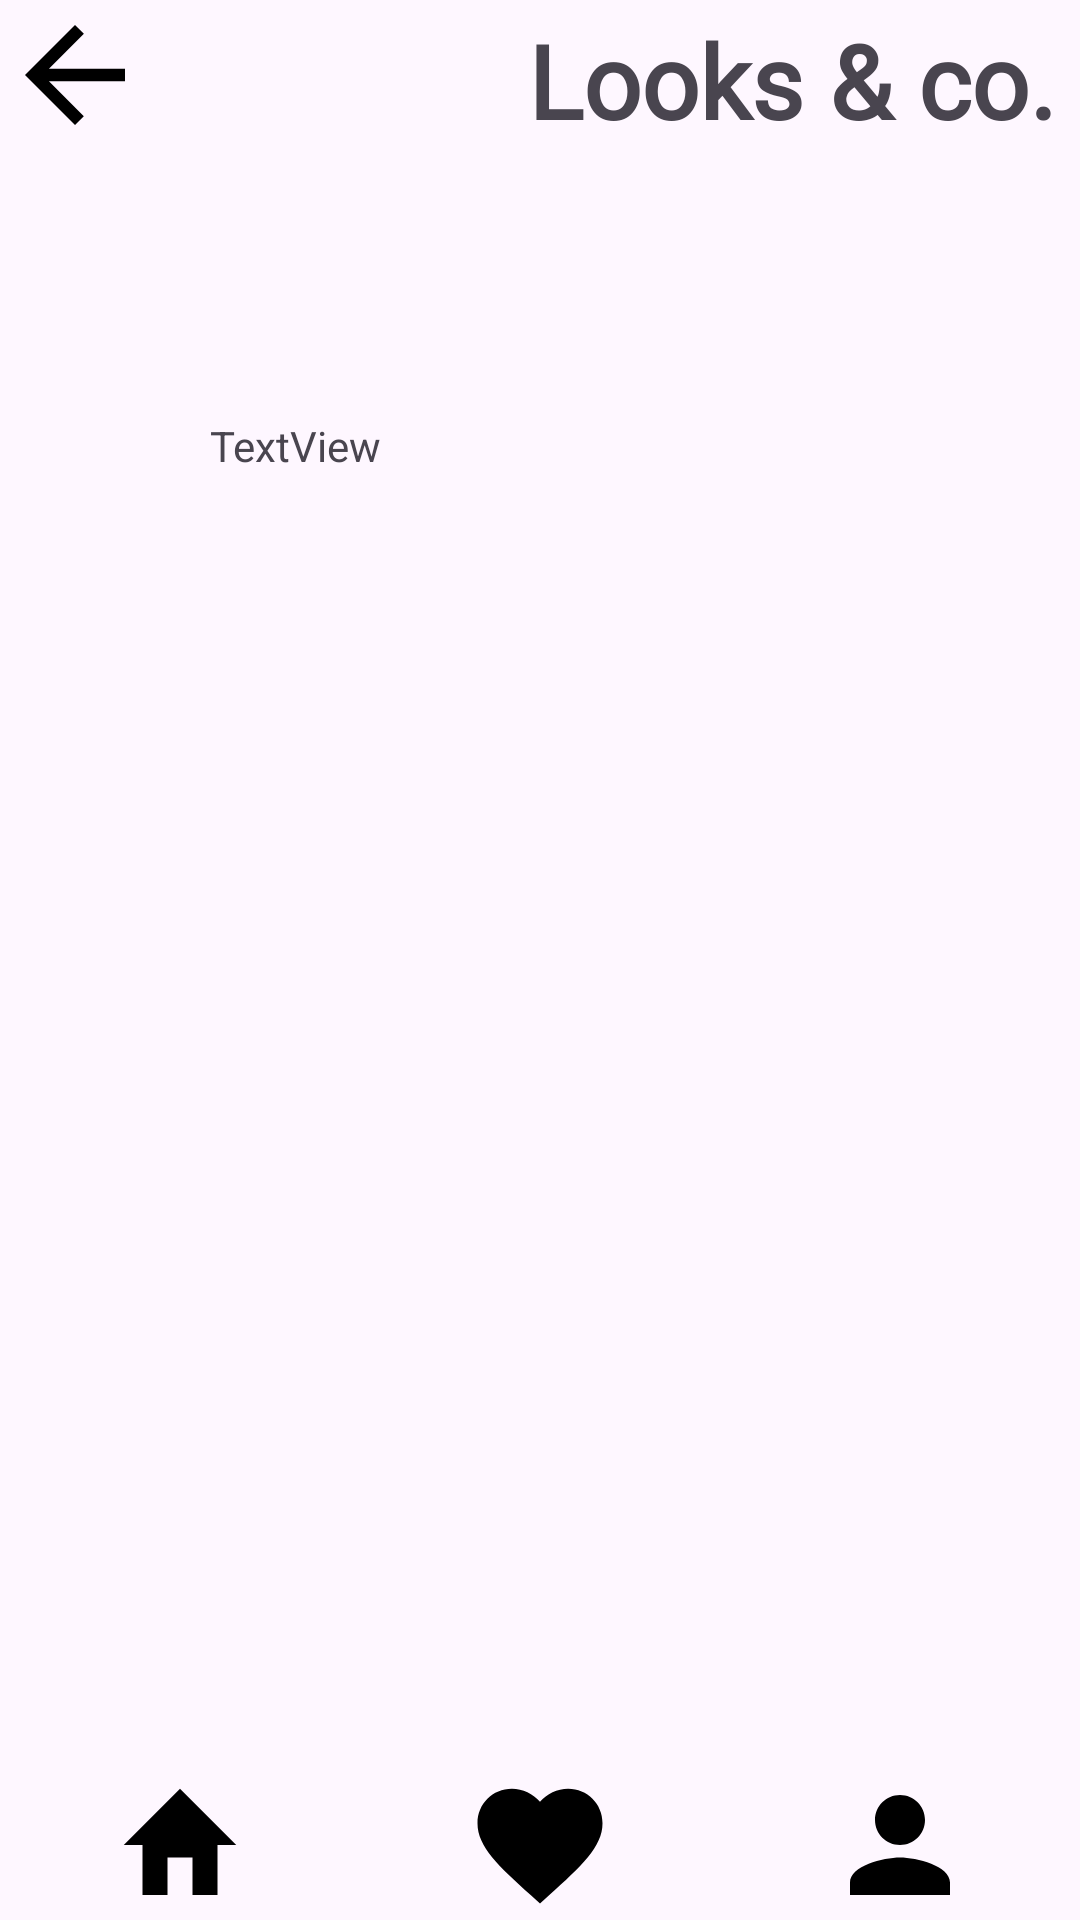

Screen size 1080 × 1920. Icon name, then its box in pixels as rect(x1, y1, x2, y2):
Favorites: rect(477, 1788, 603, 1904)
Home: rect(124, 1789, 236, 1895)
Profile: rect(850, 1795, 950, 1895)
Return: rect(25, 25, 125, 125)
